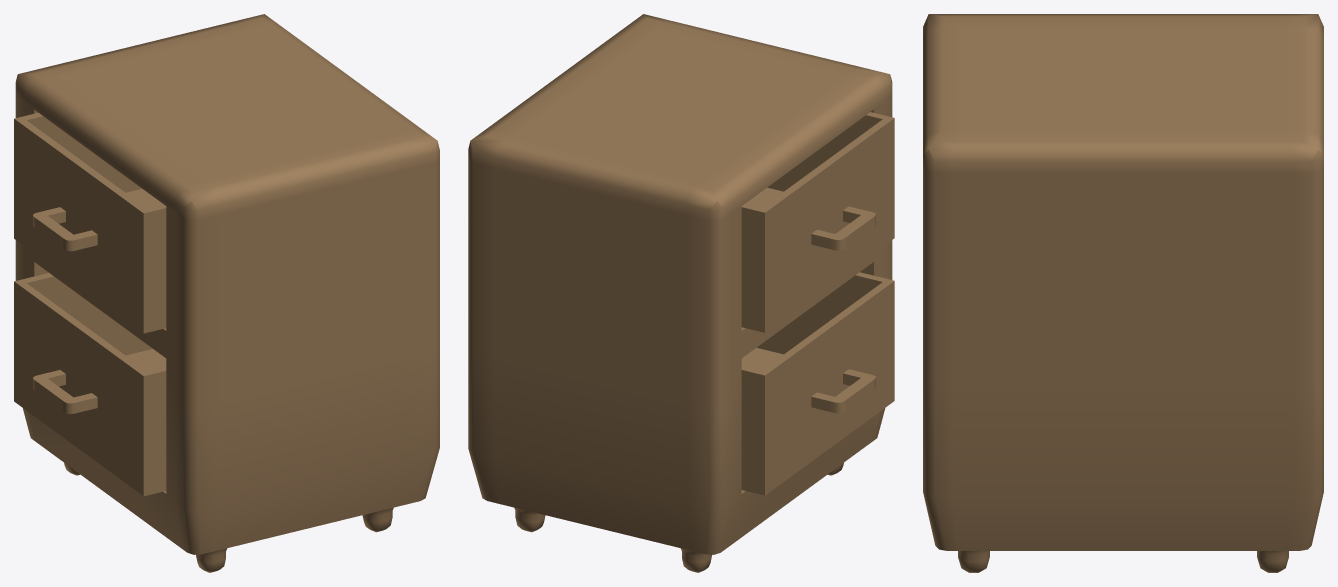
Rendered from Night_stand.fbx.
The picture shows the model from 3 angles, left to right: view 1: azimuth 30°, elevation 25°; view 2: azimuth 150°, elevation 25°; view 3: azimuth 270°, elevation 25°; orthographic projection. The views are drawn at different scales.
Visible parts, largest first — view 1: Cube; view 2: Cube; view 3: Cube.
Part boxes in pixels (box(x1,y1,x2,y2)): Cube: box(14, 14, 439, 572); Cube: box(468, 14, 894, 572); Cube: box(923, 14, 1323, 572).
Bounding box in the file's own units: 0.5284 × 0.6538 × 0.5322.
